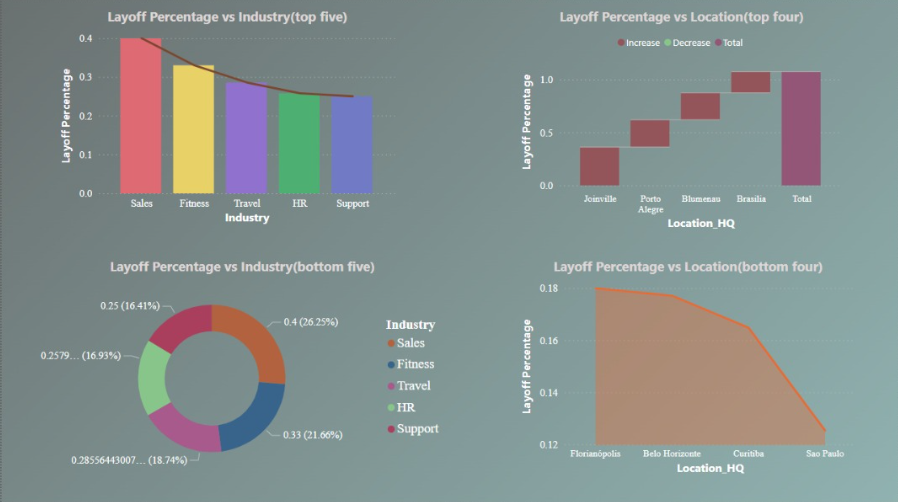

The dashboard page shown, as its layout file describes it:
{"tool":"powerbi","page":{"name":"Brazil","canvas":[1280,720],"ordinal":5},"visuals":[{"type":"waterfallChart","title":"Layoff Percentage vs Location(top four)","fields":{"Category":["Brazil_location_wise_layoff_percentage_top_four.Location_HQ"],"Y":["Sum(Brazil_location_wise_layoff_percentage_top_four.Layoff Percentage)"]},"box":[735,13.8,467.5,322.5],"z":0},{"type":"donutChart","title":"Layoff Percentage vs Industry(bottom five)","fields":{"Category":["Brazil_industry_wise_layoff_percentage_top_five.Industry"],"Y":["Max(Brazil_industry_wise_layoff_percentage_top_five.Layoff Percentage)"]},"box":[46.2,370,593.8,315],"z":1000},{"type":"lineClusteredColumnComboChart","title":"Layoff Percentage vs Industry(top five)","fields":{"Category":["Brazil_industry_wise_layoff_percentage_top_five.Industry"],"Y":["Max(Brazil_industry_wise_layoff_percentage_top_five.Layoff Percentage)"],"Y2":["Max(Brazil_industry_wise_layoff_percentage_top_five.Layoff Percentage)"]},"box":[78.8,13.8,486.2,313.8],"z":2000},{"type":"areaChart","title":"Layoff Percentage vs Location(bottom four)","fields":{"Y":["Sum(Brazil_location_wise_layoff_percentage_bottom_four.Layoff Percentage)"],"Category":["Brazil_location_wise_layoff_percentage_bottom_four.Location_HQ"]},"box":[735,370,486.2,315],"z":3000}]}

Visuals, with their boxes in screenshot pixels (x1, y1, x2, y2), scaled from the page's 1280x720 canvas onto the 898x502 screenshot:
"Layoff Percentage vs Location(top four)" waterfallChart: x1=516 y1=10 x2=844 y2=234
"Layoff Percentage vs Industry(bottom five)" donutChart: x1=32 y1=258 x2=449 y2=478
"Layoff Percentage vs Industry(top five)" lineClusteredColumnComboChart: x1=55 y1=10 x2=396 y2=228
"Layoff Percentage vs Location(bottom four)" areaChart: x1=516 y1=258 x2=857 y2=478
